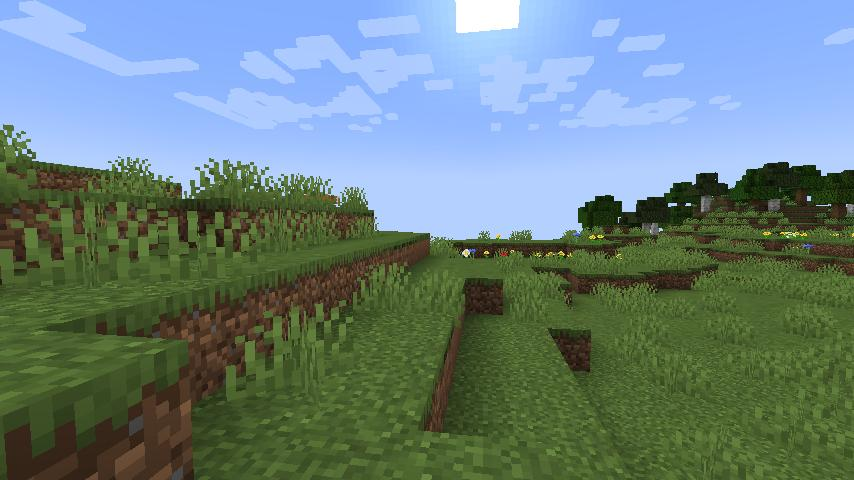fox: (302, 192, 342, 207)
